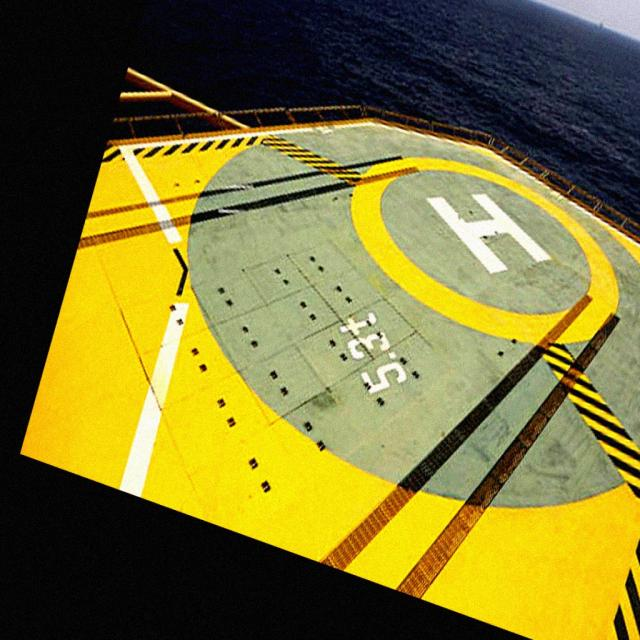helipad: (346, 148, 622, 344)
